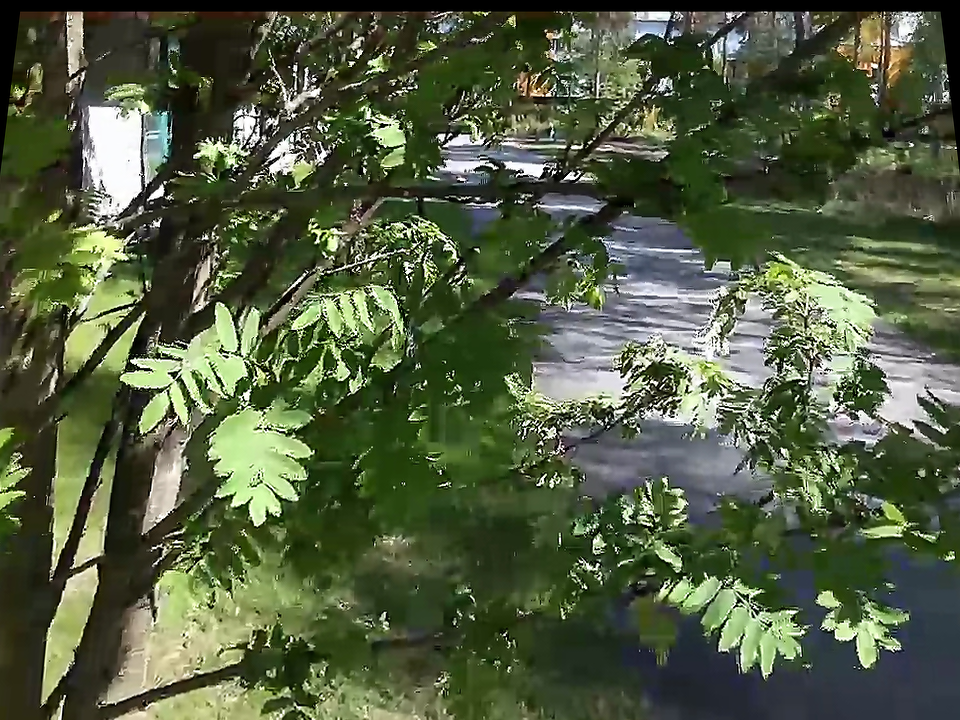branch: (231, 153, 610, 230)
trunk: (88, 37, 839, 664)
